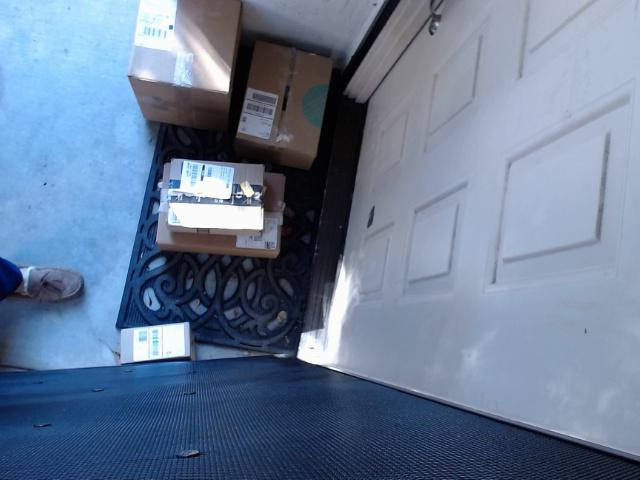box: (137, 142, 296, 270), (115, 4, 258, 132), (246, 26, 336, 202), (159, 156, 271, 247), (97, 305, 216, 377)
